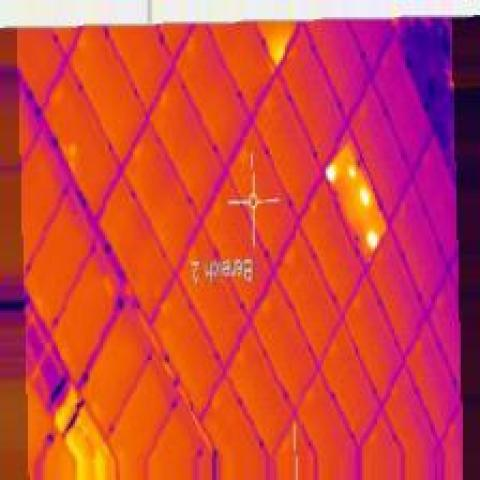fault: (263, 32, 283, 67), (362, 223, 377, 255), (324, 162, 341, 186), (358, 180, 368, 210), (346, 163, 359, 180)
